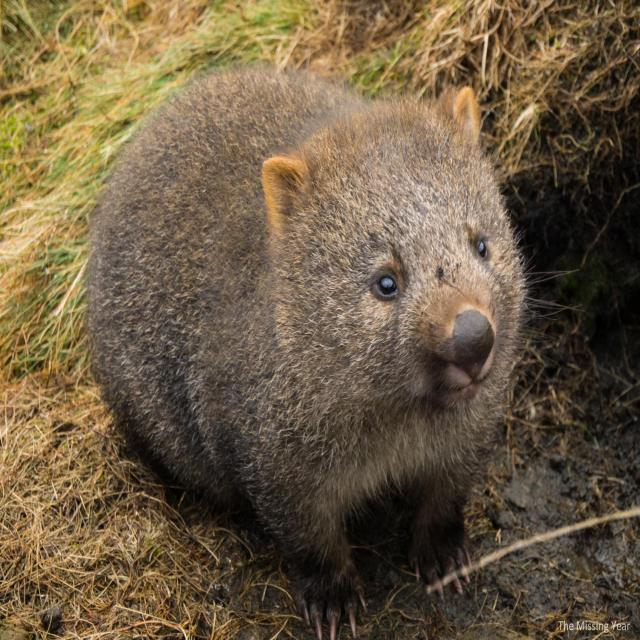Wombat: (80, 45, 539, 573)
